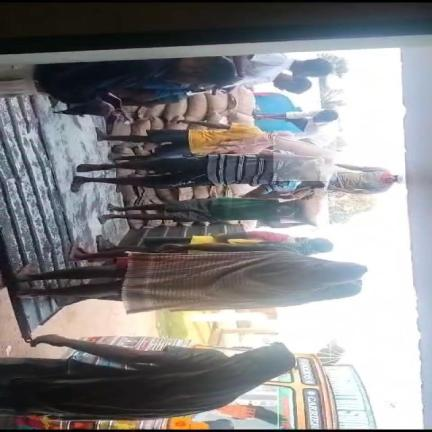Zone-Counting: (71, 138, 332, 192)
